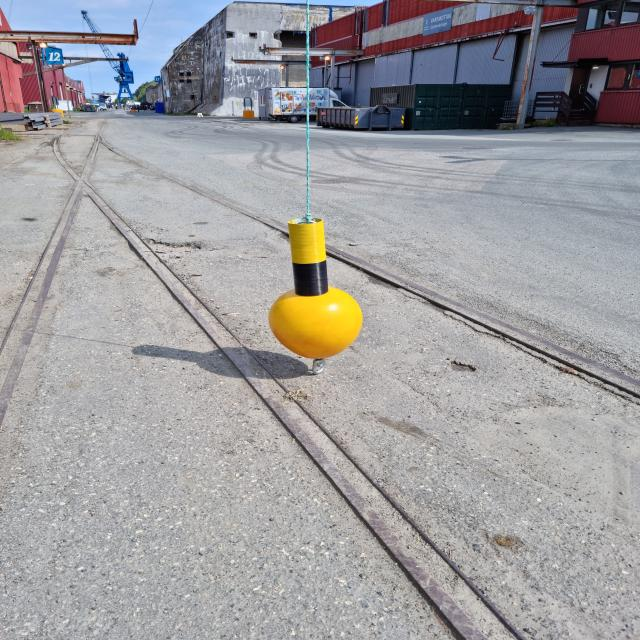west: (268, 220, 366, 359)
